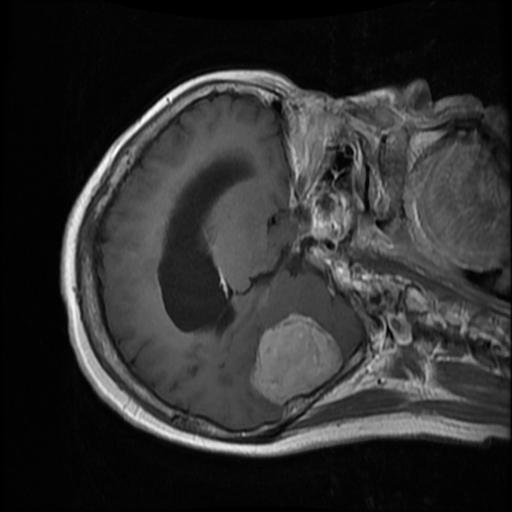meningioma: (249, 314, 339, 405)
